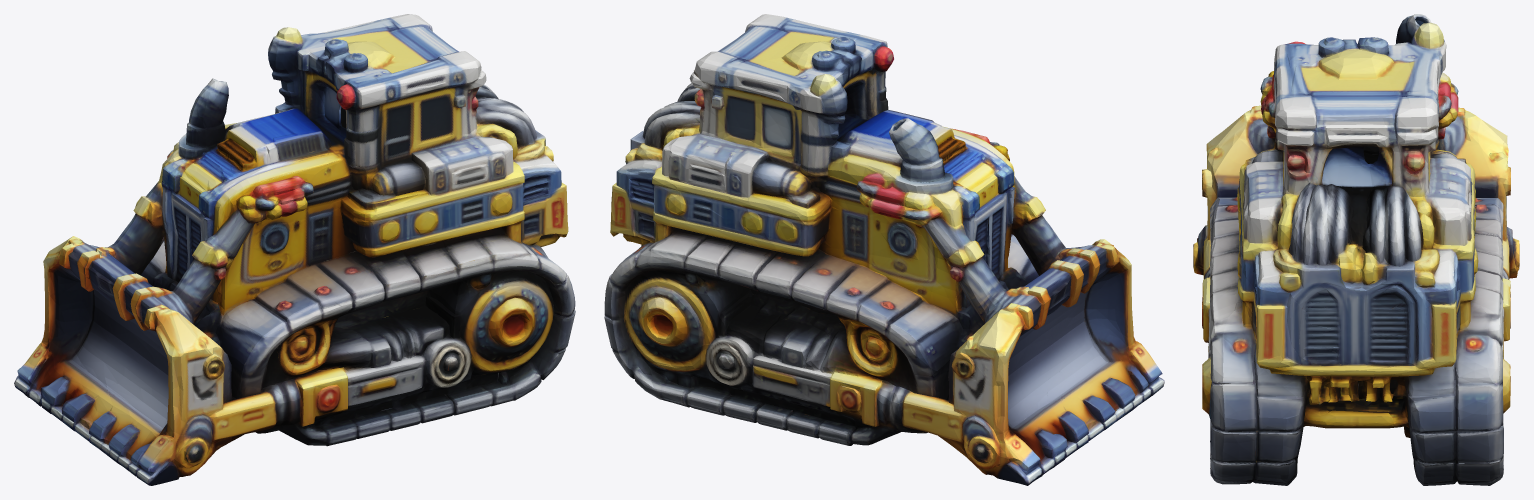
The model's file is typical_vehicle_bulldozer_easyf3c_s25.glb.
3 renders of one model, left to right at view 1: azimuth 30°, elevation 25°; view 2: azimuth 150°, elevation 25°; view 3: azimuth 270°, elevation 25°, orthographic. The views are drawn at different scales.
Parts seen in each view (by area): view 1: world; view 2: world; view 3: world.
Boxes of the visible parts, bbox=[...] form: world: bbox=[14, 14, 575, 485]; world: bbox=[604, 14, 1164, 485]; world: bbox=[1193, 14, 1519, 485].
Bounding box in the file's own units: 0.998 × 0.7298 × 0.5599.
Materials: 1 (1 with a texture image).
